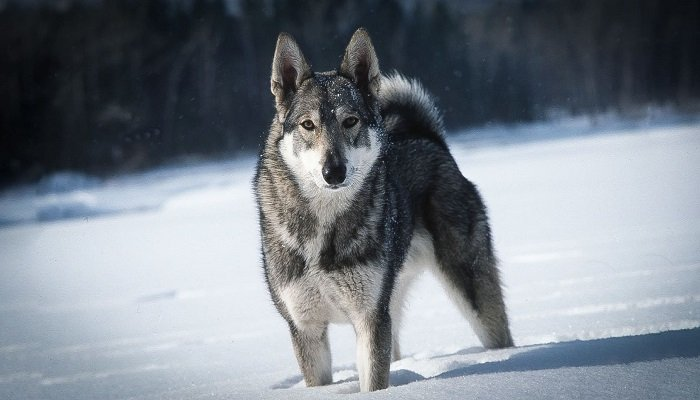dog: (243, 27, 514, 398)
